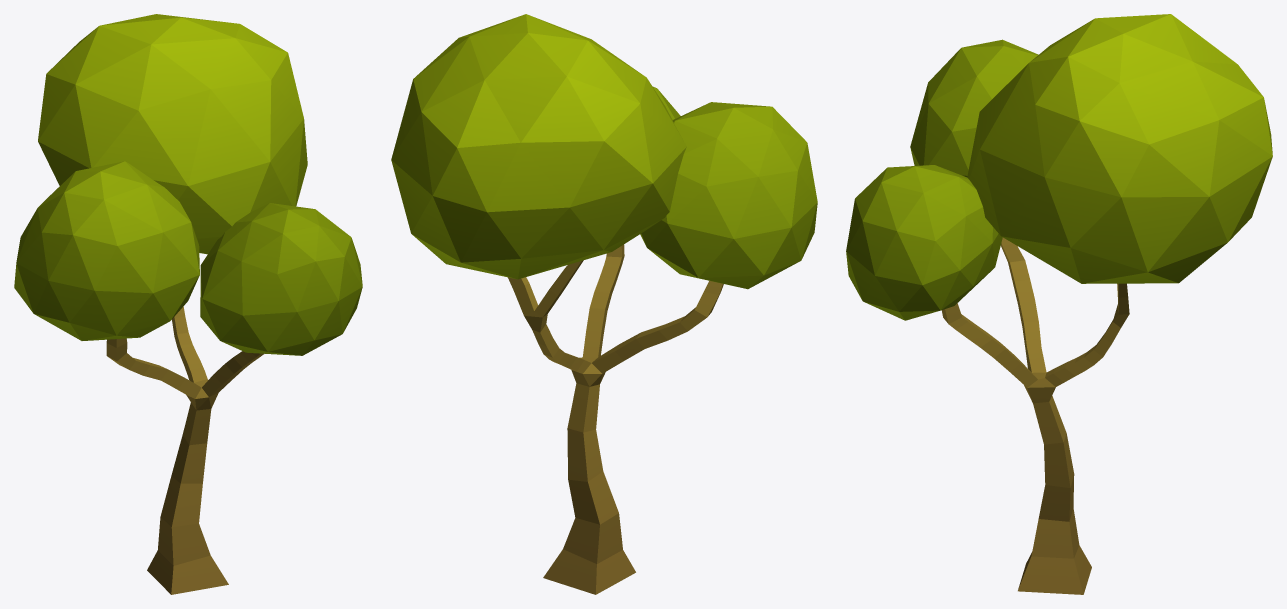
File: tree_1.glb
The picture shows the model from 3 angles, left to right: view 1: azimuth 30°, elevation 25°; view 2: azimuth 150°, elevation 25°; view 3: azimuth 270°, elevation 25°; orthographic projection. The views are drawn at different scales.
Parts seen in each view (by area): view 1: tree_1; view 2: tree_1; view 3: tree_1.
Part boxes in pixels (x1,y1,x2,y2): tree_1: (14,14,362,594); tree_1: (391,14,817,594); tree_1: (846,14,1272,594).
Bounding box in the file's own units: 4.34 × 6.85 × 4.74.
Materials: 1 (1 with a texture image).
